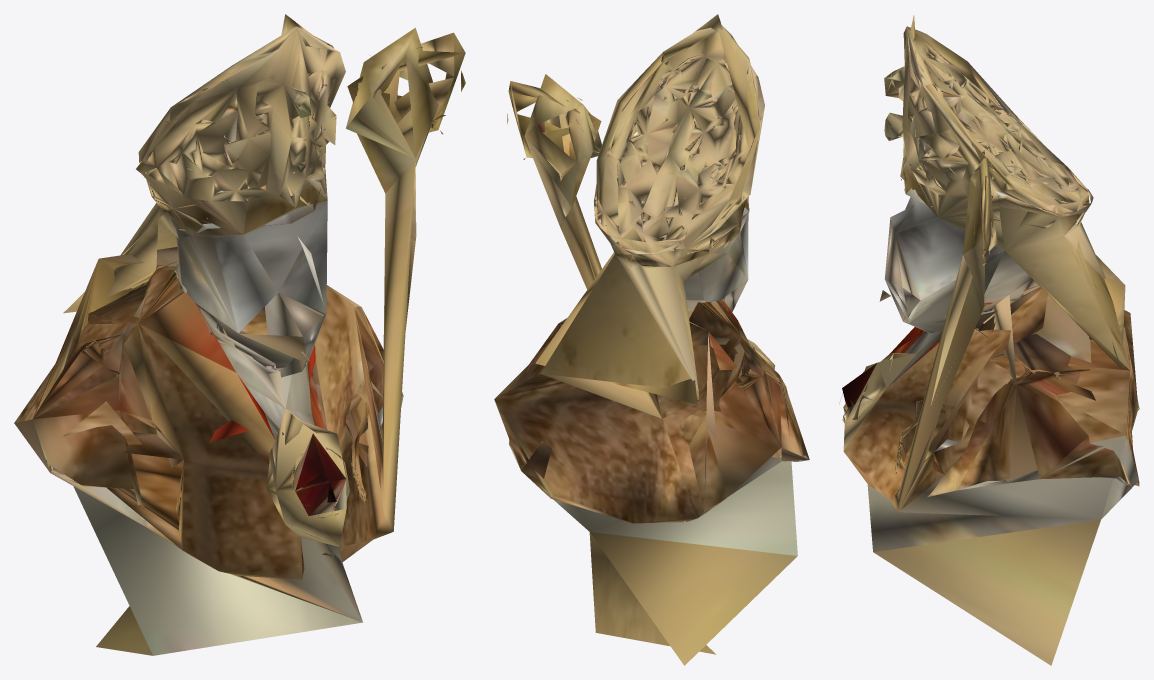
File: bishop-classic-vescovo-10k.glb
3 renders of one model, left to right at view 1: azimuth 30°, elevation 25°; view 2: azimuth 150°, elevation 25°; view 3: azimuth 270°, elevation 25°, orthographic. The views are drawn at different scales.
Parts seen in each view (by area): view 1: world; view 2: world; view 3: world.
Part boxes in pixels (x1,y1,x2,y2): world: [14, 14, 465, 655]; world: [494, 14, 809, 665]; world: [842, 15, 1139, 665].
Bounding box in the file's own units: 0.8311 × 1.41 × 0.6448.
1 material, 1 textured.
